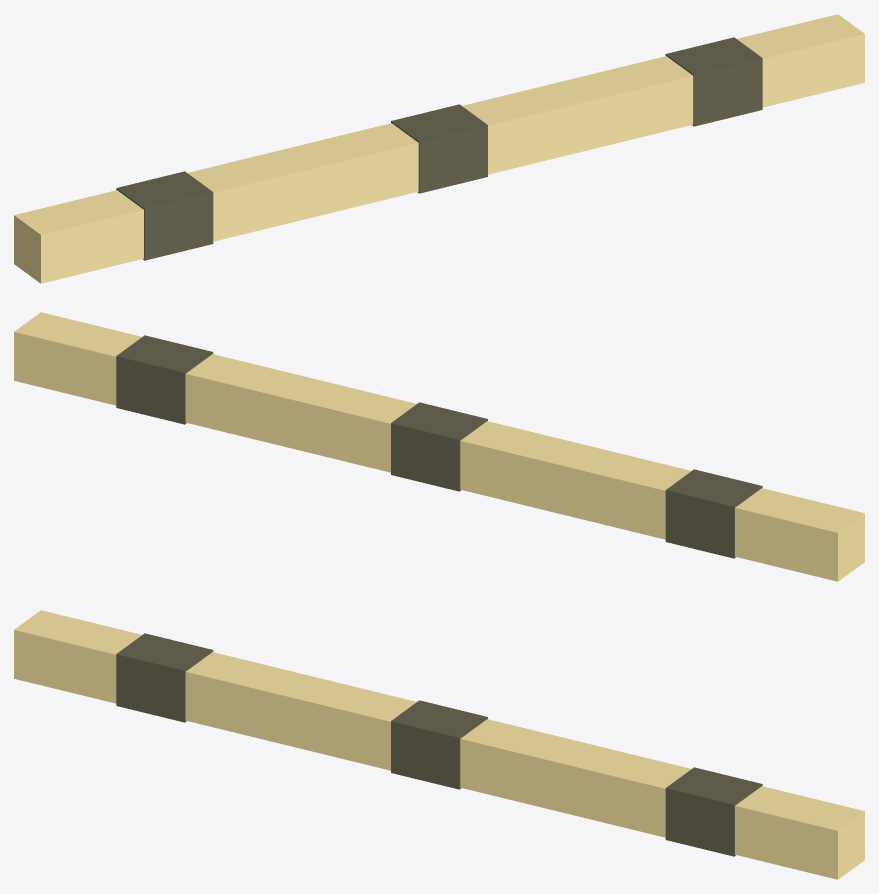
File: SM_Garita_v1_LOD1.fbx
3 renders of one model, top to bottom at view 1: azimuth 30°, elevation 25°; view 2: azimuth 150°, elevation 25°; view 3: azimuth 330°, elevation 25°, orthographic.
Visible parts, largest first — view 1: Barrera; view 2: Barrera; view 3: Barrera.
Part boxes in pixels (x1,y1,x2,y2): Barrera: [14, 14, 864, 283]; Barrera: [14, 312, 864, 581]; Barrera: [14, 610, 864, 879].
Size of what is drawn, in the model's own units: 6 by 0.36 by 0.36.
